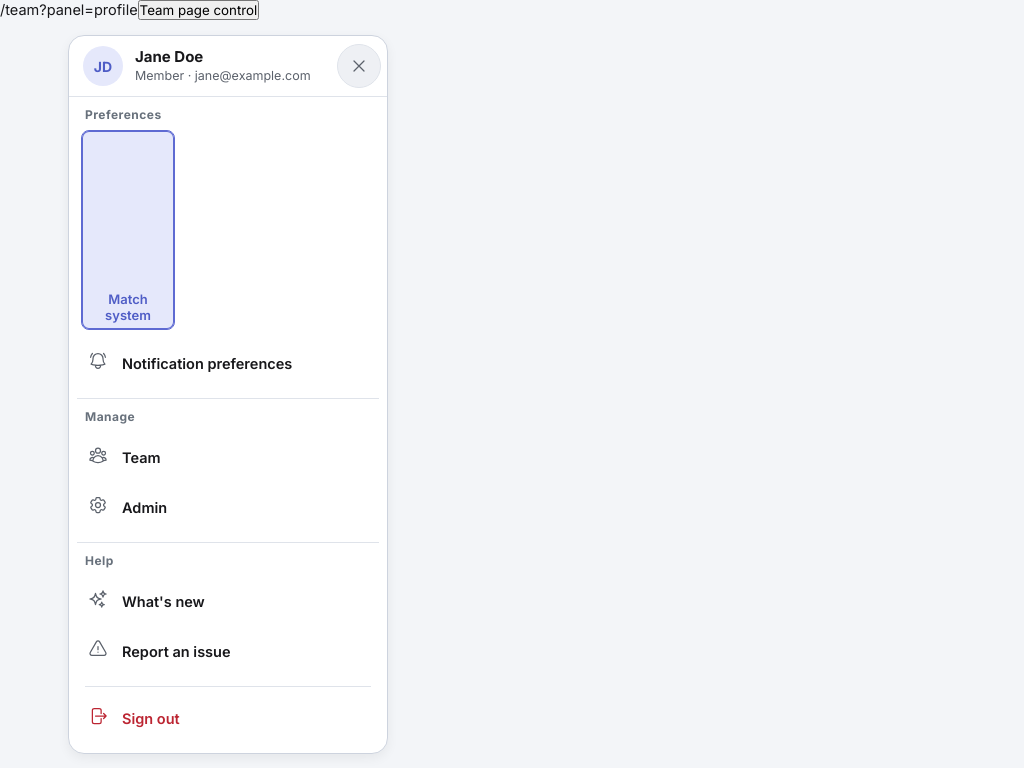
Test case: Account menu — explicit close › clicking Close removes ?panel, unmounts the dialog, and releases inert + body lock
The image size is (1024, 768).
What coordinates should you click on to do the following:
click the button named "Close account menu"
I would click on:
 (359, 66)
Its box is [337,44,381,88].
Wait 250 ms
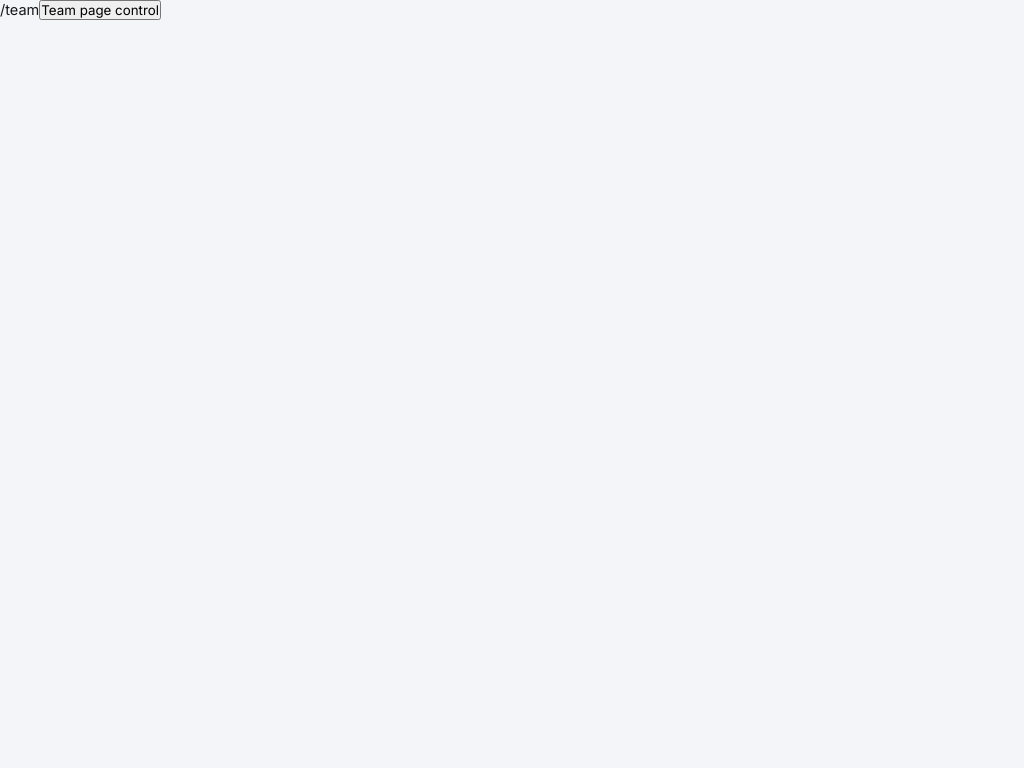
Result: the text with test id "loc" reads "/team" at [0,1,39,18]
